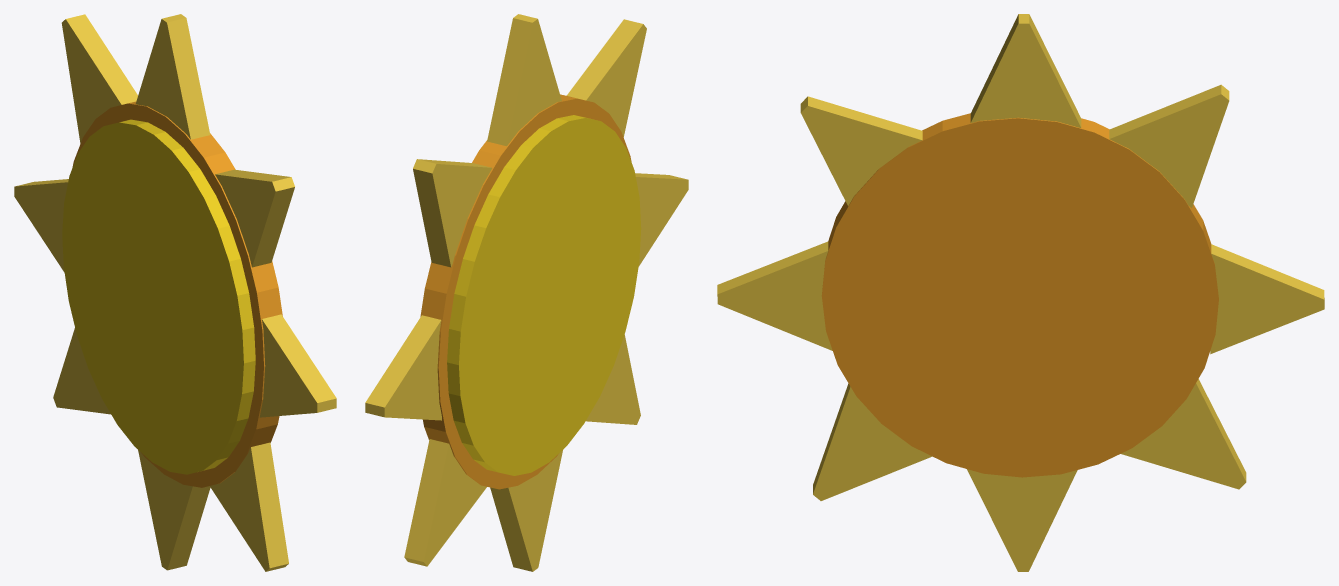
The model's file is ENVIRONMENT_OFFICE_MATAHARI.fbx.
3 renders of one model, left to right at view 1: azimuth 30°, elevation 25°; view 2: azimuth 150°, elevation 25°; view 3: azimuth 270°, elevation 25°, orthographic.
Parts seen in each view (by area): view 1: Cube.221; view 2: Cube.221; view 3: Cube.221.
Boxes of the visible parts, x1,y1,x2,y2 form: Cube.221: (14, 14, 336, 571); Cube.221: (365, 14, 688, 571); Cube.221: (717, 14, 1324, 571).
Bounding box in the file's own units: 13.15 × 205 × 205.
